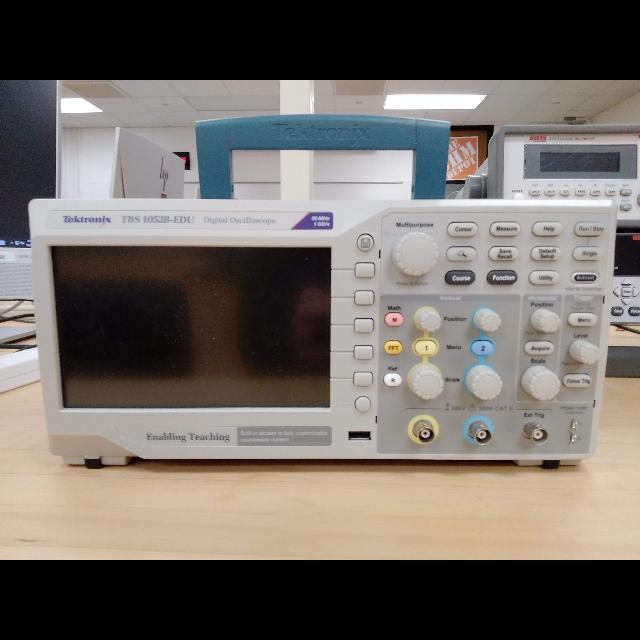Digital-Oscilloscope: (31, 202, 612, 456)
